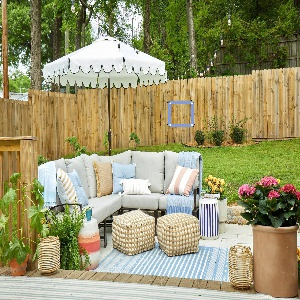square: (165, 99, 197, 128)
